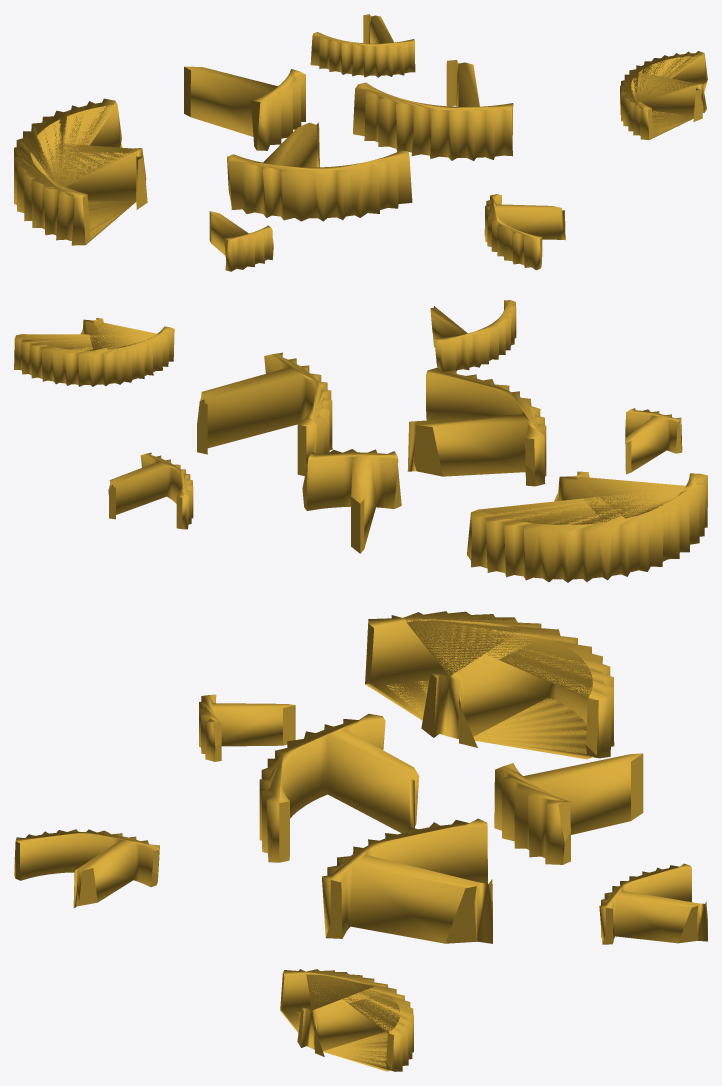
The model's file is gearsBroken_join.fbx.
3 views of the same model, one above another, from view 1: azimuth 30°, elevation 25°; view 2: azimuth 150°, elevation 25°; view 3: azimuth 270°, elevation 25° (orthographic). The views are drawn at different scales.
Parts seen in each view (by area): view 1: GearBig_cell; view 2: GearBig_cell; view 3: GearBig_cell.
Part boxes in pixels (<box>): GearBig_cell: <box>14,14,707,271</box>; GearBig_cell: <box>14,300,707,582</box>; GearBig_cell: <box>14,611,707,1071</box>.
Bounding box in the file's own units: 56.29 × 3.87 × 40.88.
